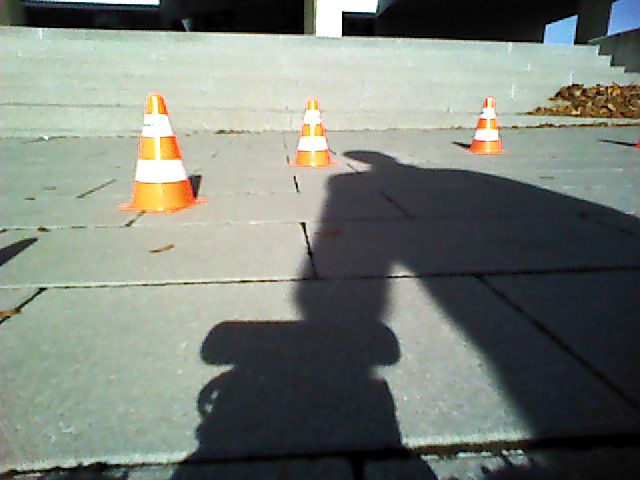orangeconesmall: (118, 92, 204, 212), (292, 96, 336, 168), (469, 97, 506, 155)
